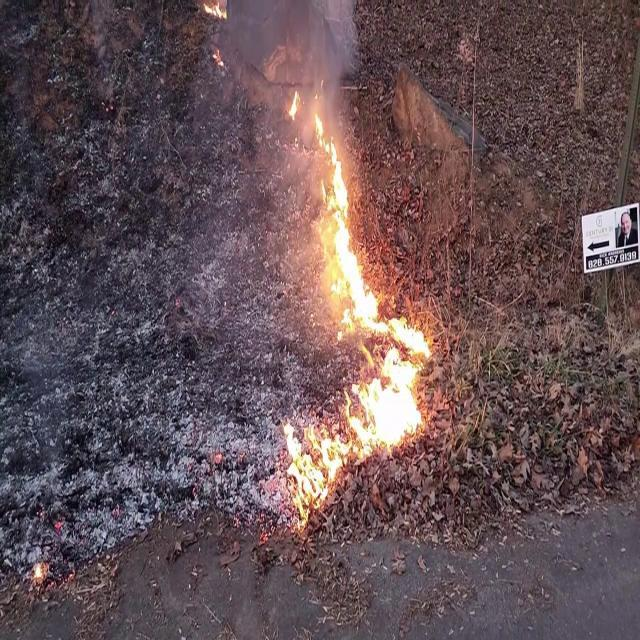Fire: (283, 311, 442, 514), (302, 93, 383, 330)
